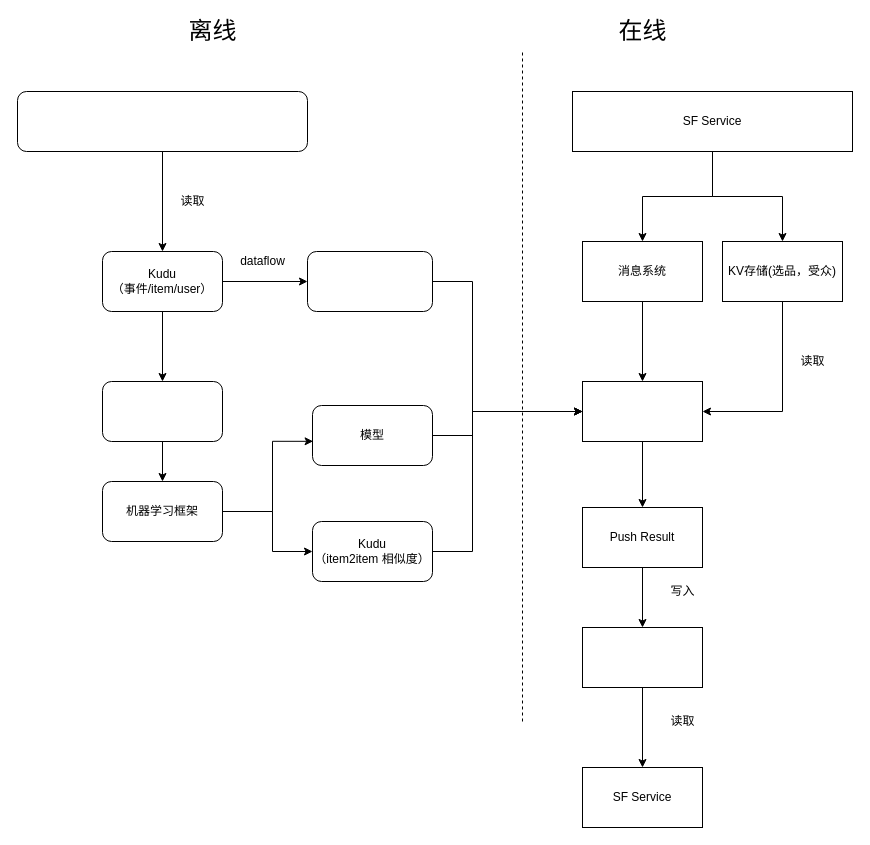
This 870x845 diagram has some shape labels left out. The shapes that lost their labels are listed below. From the top down, each one's centre as x and y in pixels, then its label:
(x=162, y=121): Infinity (query service/meta service/....)
(x=369, y=281): Redis 用户行为历史
(x=162, y=411): 训练数据
(x=642, y=411): SR Push Service
(x=642, y=657): Mysql or others
